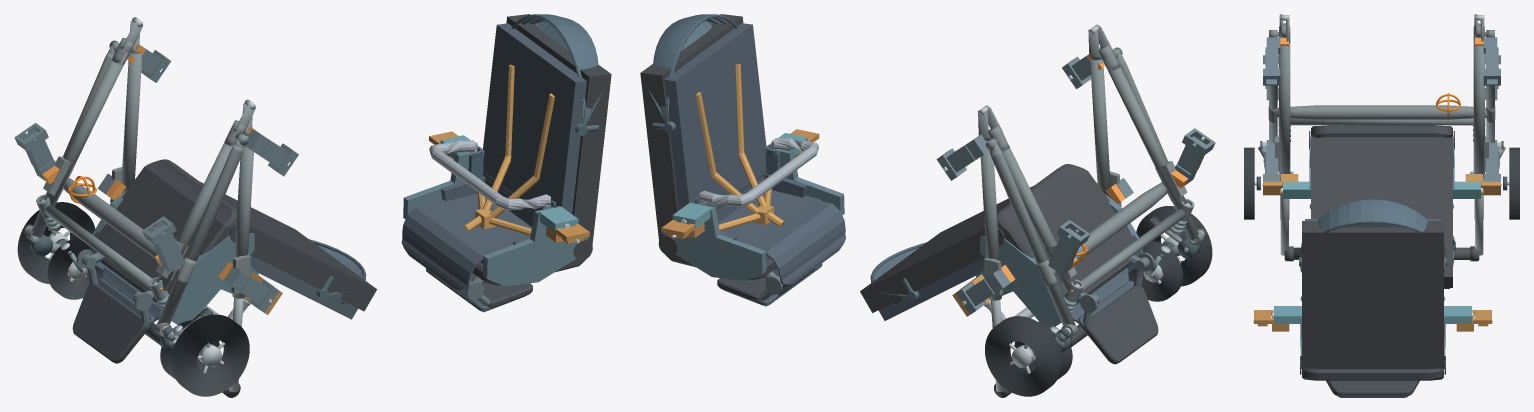
Rendered from D02_w650_state3_wheel_S.glb.
3 renders of one model, left to right at view 1: azimuth 30°, elevation 25°; view 2: azimuth 150°, elevation 25°; view 3: azimuth 270°, elevation 25°, orthographic. The views are drawn at different scales.
Parts seen in each view (by area): view 1: D02_Front_Backrest, D02_Rear_Shell, D02_Rear_Backrest, D02_Front, D02_Front_Shell, RL_tire.011, D02_Rear_Legrest, D02_Front_KneeCover, D02_Rear, V46_rear_leg_-1.011, D02_Front_FullGuard, D02_Front_ShoulderStraps (+19 smaller); view 2: D02_Front_Backrest, D02_Rear_Shell, D02_Rear_Backrest, D02_Front, D02_Front_Shell, RR_tire.011, D02_Rear_Legrest, D02_Front_KneeCover, D02_Rear, V46_rear_leg_1.011, D02_Front_FullGuard, D02_Front_ShoulderStraps (+20 smaller); view 3: D02_Front_Backrest, D02_Rear_Backrest, V46_rearbar.011, D02_Front_Canopy, D02_Rear_Shell, D02_Front_Shell, D02_Front_Legrest, main_upper_1.012, main_upper_-1.012, front_fixed_round_tube.011, D02_Front, D02_Rear (+17 smaller).
Boxes of the visible parts, x1=… form: D02_Front_Backrest: x1=483, y1=14, x2=611, y2=244; D02_Rear_Shell: x1=91, y1=159, x2=237, y2=302; D02_Rear_Backrest: x1=200, y1=182, x2=376, y2=319; D02_Front: x1=403, y1=135, x2=588, y2=286; D02_Front_Shell: x1=425, y1=147, x2=592, y2=285; RL_tire.011: x1=171, y1=314, x2=249, y2=396; D02_Rear_Legrest: x1=72, y1=267, x2=154, y2=363; D02_Front_KneeCover: x1=401, y1=205, x2=489, y2=312; D02_Rear: x1=88, y1=189, x2=274, y2=324; V46_rear_leg_-1.011: x1=157, y1=144, x2=244, y2=324; D02_Front_FullGuard: x1=429, y1=140, x2=551, y2=210; D02_Front_ShoulderStraps: x1=482, y1=64, x2=554, y2=218; D02_Front_Backrest: x1=640, y1=14, x2=766, y2=240; D02_Rear_Shell: x1=997, y1=164, x2=1140, y2=304; D02_Rear_Backrest: x1=860, y1=186, x2=1033, y2=320; D02_Front: x1=661, y1=133, x2=844, y2=280; D02_Front_Shell: x1=658, y1=144, x2=822, y2=279; RR_tire.011: x1=985, y1=316, x2=1061, y2=396; D02_Rear_Legrest: x1=1078, y1=269, x2=1158, y2=364; D02_Front_KneeCover: x1=760, y1=201, x2=845, y2=306; D02_Rear: x1=961, y1=194, x2=1142, y2=326; V46_rear_leg_1.011: x1=990, y1=149, x2=1075, y2=325; D02_Front_FullGuard: x1=699, y1=138, x2=818, y2=206; D02_Front_ShoulderStraps: x1=695, y1=63, x2=766, y2=214; D02_Front_Backrest: x1=1302, y1=219, x2=1443, y2=368; D02_Rear_Backrest: x1=1311, y1=137, x2=1452, y2=288; V46_rearbar.011: x1=1275, y1=105, x2=1488, y2=119; D02_Front_Canopy: x1=1299, y1=199, x2=1446, y2=258; D02_Rear_Shell: x1=1309, y1=125, x2=1454, y2=149; D02_Front_Shell: x1=1300, y1=356, x2=1445, y2=380; D02_Front_Legrest: x1=1326, y1=380, x2=1419, y2=397; main_upper_1.012: x1=1473, y1=42, x2=1484, y2=177; main_upper_-1.012: x1=1279, y1=42, x2=1290, y2=177; front_fixed_round_tube.011: x1=1290, y1=118, x2=1473, y2=125; D02_Front: x1=1272, y1=306, x2=1473, y2=368; D02_Rear: x1=1281, y1=136, x2=1482, y2=198.
Bounding box in the file's own units: 1.36 × 0.7726 × 0.766.
